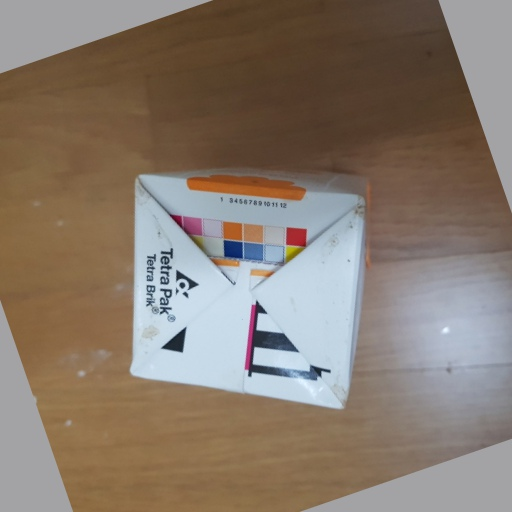Paper_0: (121, 141, 393, 417)
